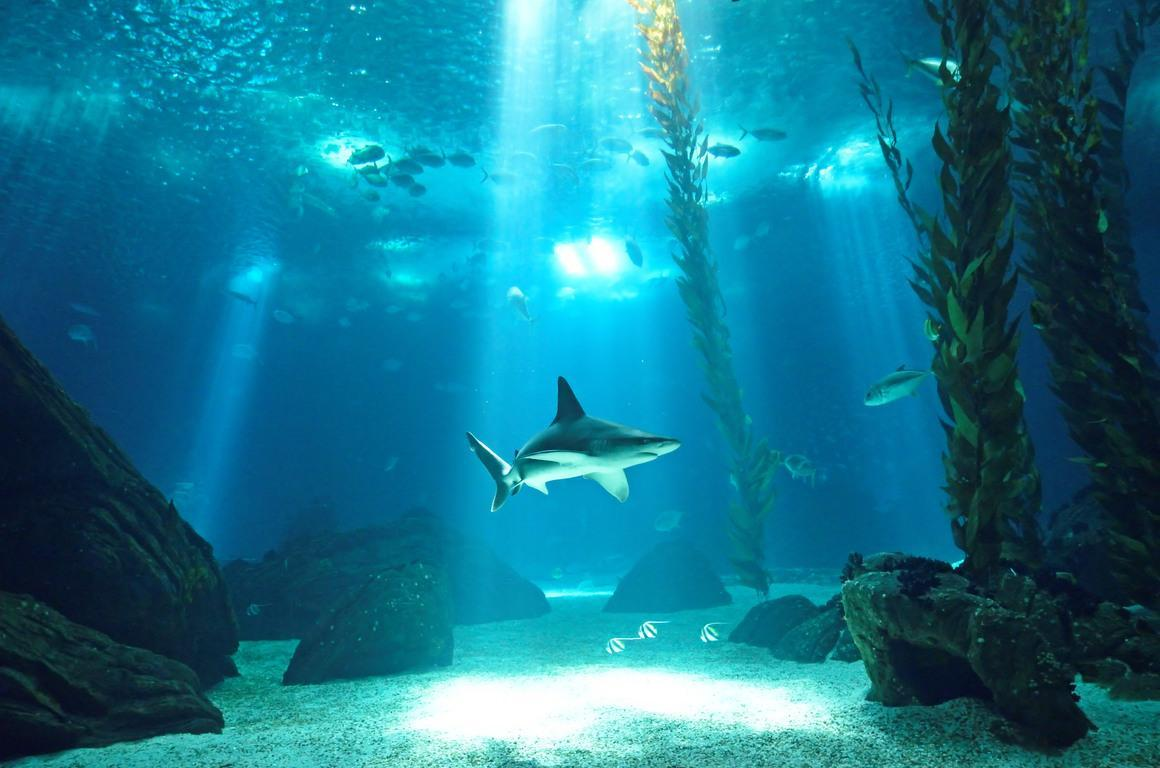fish: (454, 392, 681, 516)
